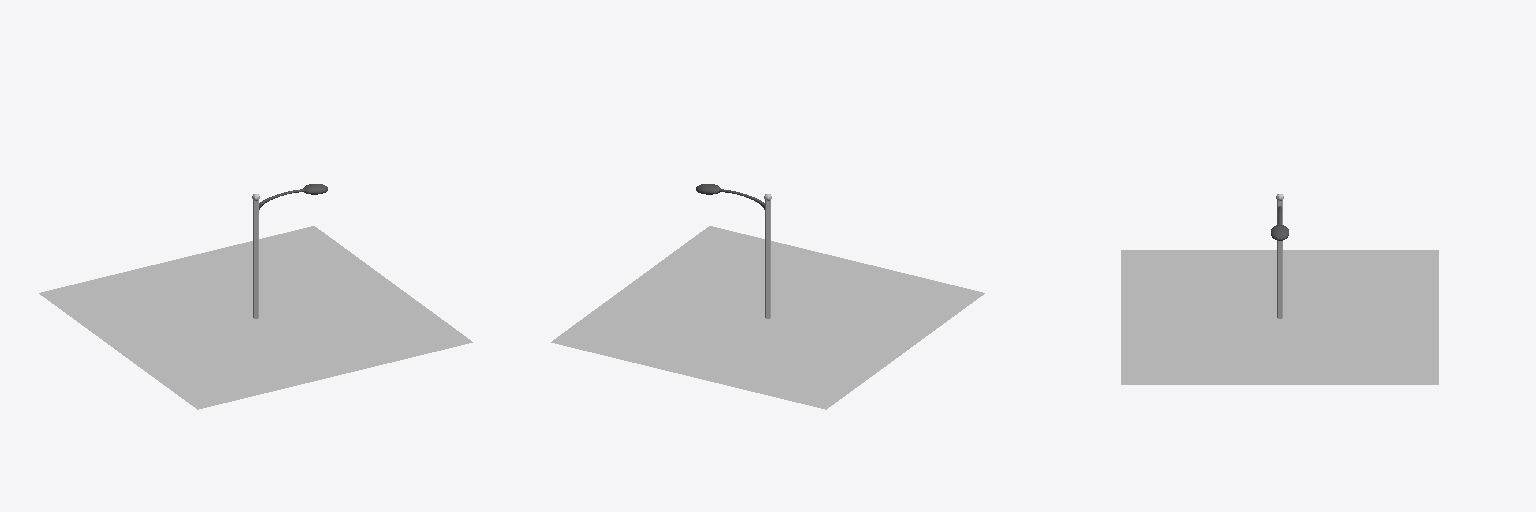
Rendered from StreetLamp.obj.
3 renders of one model, left to right at view 1: azimuth 30°, elevation 25°; view 2: azimuth 150°, elevation 25°; view 3: azimuth 270°, elevation 25°, orthographic.
Visible parts, largest first — view 1: Plane_Plane.001, Pole_Cylinder; view 2: Plane_Plane.001, Pole_Cylinder; view 3: Plane_Plane.001, Pole_Cylinder.
Part boxes in pixels (x1,y1,x2,y2): Plane_Plane.001: (39,226,472,409); Pole_Cylinder: (253,200,258,318); Plane_Plane.001: (551,226,984,409); Pole_Cylinder: (765,200,770,318); Plane_Plane.001: (1121,250,1438,384); Pole_Cylinder: (1277,200,1282,318).
Bounding box in the file's own units: 33.8 × 14.53 × 33.8.